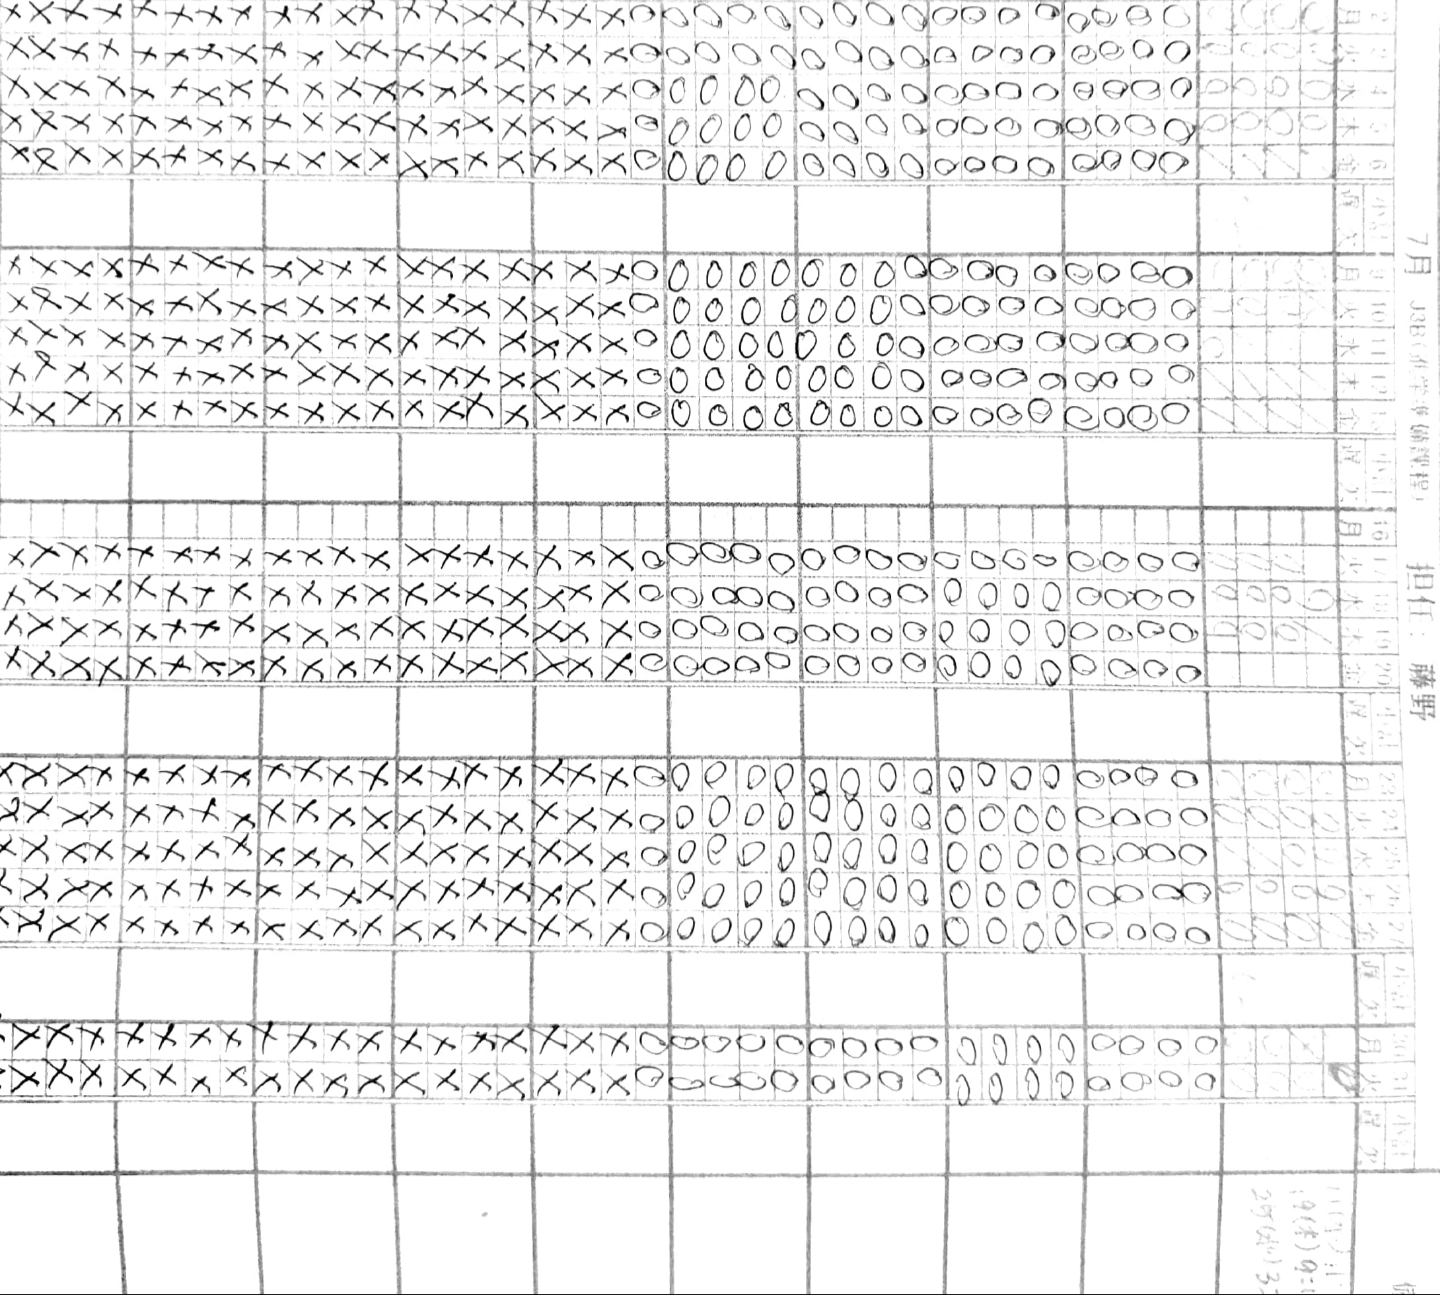o: (990, 290, 1030, 329), (992, 325, 1032, 364), (992, 70, 1027, 112), (862, 325, 900, 364), (1094, 139, 1127, 181), (862, 400, 905, 434), (1064, 69, 1096, 112), (657, 365, 702, 396), (861, 364, 900, 400), (1027, 70, 1062, 110), (1096, 71, 1127, 115), (1060, 145, 1097, 181), (896, 257, 934, 294), (630, 254, 665, 291), (992, 252, 1027, 290), (1029, 110, 1062, 147), (695, 394, 732, 427), (960, 252, 994, 290), (729, 539, 766, 572), (792, 539, 830, 572), (860, 542, 897, 576), (965, 544, 1002, 577), (1000, 544, 1037, 577), (1064, 544, 1101, 577), (1099, 544, 1136, 577), (799, 579, 836, 612), (997, 579, 1035, 612), (1130, 579, 1167, 612), (1097, 572, 1135, 606), (1034, 612, 1071, 646), (994, 614, 1031, 647), (962, 612, 1000, 646), (895, 614, 932, 647), (860, 612, 897, 646), (730, 612, 767, 646), (760, 647, 797, 681), (964, 647, 1001, 681), (1035, 654, 1072, 687), (1124, 359, 1161, 392), (1125, 399, 1162, 432), (1034, 759, 1071, 792), (664, 797, 701, 831), (940, 799, 977, 832), (1109, 797, 1146, 831), (1179, 797, 1216, 831), (1039, 837, 1076, 871), (937, 839, 975, 872), (867, 832, 905, 866), (842, 832, 880, 866), (802, 829, 840, 862), (985, 877, 1022, 911), (1045, 877, 1082, 911), (1112, 912, 1150, 946), (1084, 914, 1121, 947), (942, 912, 980, 946), (909, 914, 946, 947), (764, 914, 801, 947), (740, 914, 777, 947), (632, 1029, 670, 1062), (807, 1029, 845, 1062), (979, 1032, 1016, 1066), (1055, 1027, 1092, 1061), (1094, 1029, 1131, 1062), (1129, 1032, 1166, 1066), (1165, 1034, 1202, 1067), (1074, 1067, 1111, 1101), (875, 1067, 912, 1101), (930, 289, 961, 329), (930, 325, 961, 365), (932, 360, 964, 400), (965, 397, 996, 437), (962, 322, 994, 362), (1064, 112, 1099, 147), (699, 254, 734, 289), (631, 574, 667, 607), (891, 544, 927, 577), (1136, 544, 1172, 577), (866, 577, 902, 611), (1036, 579, 1072, 612), (702, 649, 739, 682), (827, 649, 864, 682), (931, 649, 967, 682), (1137, 652, 1174, 686), (1171, 654, 1207, 687), (1127, 252, 1164, 286), (1162, 357, 1199, 391), (1156, 394, 1192, 427), (1101, 759, 1137, 792), (1072, 764, 1109, 797), (1007, 757, 1044, 791), (971, 757, 1007, 791), (936, 757, 972, 791), (631, 757, 667, 791), (1071, 834, 1107, 867), (741, 839, 777, 872), (702, 832, 739, 866), (666, 834, 702, 867), (1052, 914, 1089, 947), (1012, 914, 1049, 947), (871, 912, 907, 946), (712, 914, 749, 947), (667, 1027, 704, 1061), (871, 1029, 907, 1062), (951, 1032, 987, 1066), (1051, 1069, 1087, 1102), (976, 1067, 1012, 1101), (941, 1067, 977, 1101), (762, 536, 800, 569), (730, 580, 767, 612), (700, 577, 737, 610), (660, 576, 697, 609), (929, 542, 966, 575), (900, 580, 937, 612), (935, 577, 972, 610), (1162, 580, 1200, 612), (1164, 617, 1201, 650), (1127, 615, 1165, 647), (929, 612, 966, 645), (769, 617, 806, 650), (667, 610, 705, 642), (632, 611, 670, 644), (799, 650, 836, 682), (899, 647, 936, 680), (997, 645, 1035, 677), (1122, 327, 1160, 360), (1157, 325, 1195, 357), (1130, 761, 1167, 794), (830, 762, 867, 795), (762, 757, 800, 790), (735, 760, 772, 792), (699, 756, 736, 789), (665, 760, 702, 792), (634, 800, 671, 832), (700, 797, 737, 830), (732, 797, 770, 830), (767, 797, 805, 830), (832, 797, 870, 830), (874, 795, 911, 827), (972, 800, 1010, 832), (1009, 800, 1046, 832), (1139, 797, 1176, 830), (1177, 837, 1215, 870), (1117, 836, 1155, 869), (1009, 836, 1046, 869), (970, 840, 1007, 872), (669, 871, 706, 904), (704, 875, 741, 907), (840, 875, 877, 907), (1080, 877, 1117, 910), (1105, 876, 1142, 909), (1180, 915, 1217, 947), (842, 911, 880, 944), (637, 915, 675, 947), (702, 1027, 740, 1060), (837, 1030, 875, 1062), (1022, 1030, 1060, 1062), (1199, 1032, 1236, 1065), (1012, 1067, 1050, 1100), (910, 1066, 947, 1099), (805, 1067, 842, 1100), (710, 1066, 747, 1099), (634, 1062, 671, 1095), (932, 397, 962, 437), (962, 356, 992, 396), (962, 289, 992, 329), (932, 72, 966, 107), (795, 254, 827, 290), (827, 540, 864, 572), (1162, 545, 1199, 577), (761, 577, 797, 610), (826, 577, 862, 610), (971, 577, 1007, 610), (1067, 577, 1104, 610), (1096, 616, 1132, 649), (1061, 615, 1097, 647), (826, 612, 862, 645), (791, 611, 827, 644), (697, 610, 734, 642), (636, 647, 672, 680), (671, 650, 707, 682), (731, 647, 767, 680), (856, 647, 892, 680), (1071, 647, 1107, 680), (1102, 647, 1139, 680), (1157, 252, 1194, 285), (1162, 292, 1199, 325), (1127, 291, 1164, 324), (1171, 762, 1207, 795), (907, 760, 944, 792), (872, 757, 909, 790), (806, 765, 842, 797), (801, 797, 837, 830), (901, 797, 937, 830), (1042, 800, 1079, 832), (1077, 797, 1114, 830), (1141, 835, 1177, 867), (907, 837, 944, 870), (771, 841, 807, 874), (737, 876, 774, 909), (771, 876, 807, 909), (802, 866, 839, 899), (872, 875, 909, 907), (902, 875, 939, 907), (941, 876, 977, 909), (1012, 877, 1049, 910), (1146, 876, 1182, 909), (1177, 876, 1214, 909), (1146, 916, 1182, 949), (972, 915, 1009, 947), (812, 915, 849, 947), (672, 911, 709, 944), (741, 1027, 777, 1060), (771, 1025, 807, 1057), (912, 1025, 949, 1057), (1191, 1071, 1227, 1104), (1142, 1067, 1179, 1100), (1107, 1072, 1144, 1105), (837, 1066, 874, 1099), (771, 1065, 807, 1097), (732, 1061, 769, 1094), (672, 1065, 709, 1097), (632, 1060, 669, 1092), (964, 140, 991, 182), (830, 254, 860, 292), (901, 399, 931, 437), (1057, 2, 1090, 37), (697, 72, 730, 107), (797, 112, 830, 147), (727, 322, 760, 357), (1029, 542, 1061, 577), (1124, 32, 1156, 67), (1096, 107, 1127, 144), (797, 322, 827, 360), (1094, 37, 1126, 71), (1065, 39, 1097, 72), (1030, 37, 1062, 71), (994, 36, 1026, 70), (964, 37, 996, 71), (895, 39, 927, 72), (862, 36, 895, 70), (830, 37, 862, 71), (764, 39, 796, 72), (630, 35, 662, 69), (627, 105, 660, 139), (665, 112, 697, 146), (662, 75, 695, 109), (727, 147, 760, 181), (727, 109, 760, 142), (729, 70, 761, 104), (759, 109, 791, 142), (762, 147, 795, 181), (795, 75, 827, 109), (825, 76, 857, 110), (894, 150, 926, 184), (1027, 146, 1061, 179), (731, 395, 764, 429), (900, 294, 934, 326), (1125, 144, 1157, 177), (931, 37, 962, 72), (757, 72, 789, 107), (631, 292, 666, 324), (767, 291, 797, 327), (629, 1, 661, 34), (730, 1, 762, 34), (832, 1, 865, 34), (894, 1, 926, 34), (927, 1, 960, 34), (992, 1, 1025, 34), (1029, 1, 1061, 34), (832, 402, 865, 435), (1159, 106, 1191, 139), (1127, 106, 1160, 139), (661, 2, 692, 36), (697, 1, 729, 35), (762, 2, 794, 36), (797, 39, 829, 72), (731, 37, 762, 71), (661, 36, 692, 70), (696, 36, 727, 70), (626, 72, 657, 106), (627, 144, 659, 177), (662, 146, 694, 180), (697, 109, 729, 142), (692, 147, 724, 181), (797, 146, 829, 180), (826, 111, 857, 145), (827, 146, 859, 180), (862, 147, 894, 181), (862, 109, 894, 142), (862, 71, 894, 105), (896, 72, 927, 106), (896, 111, 927, 145), (729, 292, 762, 324), (1162, 39, 1194, 72), (992, 112, 1027, 142), (659, 327, 694, 357), (731, 359, 757, 399), (801, 396, 831, 431), (799, 360, 827, 396), (767, 254, 795, 291), (791, 1, 822, 34), (862, 1, 894, 34), (956, 1, 987, 34), (1086, 1, 1117, 34), (865, 292, 896, 325), (1124, 1, 1156, 32), (1162, 65, 1194, 97), (1157, 146, 1189, 179), (1126, 70, 1157, 102), (632, 359, 662, 392), (700, 294, 730, 327), (964, 105, 992, 140), (666, 256, 695, 291), (831, 321, 857, 359), (899, 357, 922, 399), (1162, 1, 1194, 32), (666, 397, 696, 430), (797, 290, 827, 322), (995, 364, 1027, 394), (1030, 256, 1062, 286), (1035, 329, 1067, 359), (1035, 362, 1067, 392), (1025, 396, 1057, 426), (1067, 327, 1100, 357), (1097, 326, 1130, 356), (1094, 362, 1126, 392), (1069, 362, 1101, 392), (1065, 401, 1097, 431), (832, 357, 857, 396), (632, 400, 667, 427), (662, 292, 694, 322), (770, 362, 800, 394), (866, 261, 896, 292), (996, 402, 1027, 432), (1032, 291, 1064, 321), (1062, 257, 1094, 287), (1092, 257, 1124, 287), (1096, 287, 1127, 317), (1071, 289, 1102, 319), (1096, 400, 1127, 430), (932, 146, 961, 179), (630, 326, 662, 355), (701, 327, 730, 360), (771, 400, 799, 432), (832, 292, 860, 325), (997, 147, 1024, 181), (637, 542, 665, 572), (667, 540, 695, 570), (702, 362, 729, 394), (771, 327, 796, 360), (701, 539, 727, 569), (934, 112, 960, 140), (734, 256, 757, 286), (967, 77, 992, 105), (902, 327, 922, 359), (937, 257, 959, 280)
x: (187, 794, 227, 832), (56, 790, 92, 832), (189, 832, 227, 871), (567, 794, 604, 835), (366, 607, 401, 649), (397, 610, 432, 651), (431, 610, 466, 651), (467, 609, 502, 650), (496, 609, 531, 650), (567, 610, 602, 651), (602, 610, 637, 651), (604, 642, 639, 684), (562, 644, 597, 685), (532, 642, 567, 684), (495, 642, 530, 684), (432, 646, 467, 687), (395, 647, 430, 689), (366, 646, 401, 687), (334, 642, 369, 684), (297, 644, 332, 685), (264, 644, 299, 685), (162, 642, 197, 684), (125, 646, 160, 687), (91, 642, 126, 684), (24, 642, 59, 684), (532, 794, 567, 835), (92, 790, 127, 831), (292, 757, 330, 795), (530, 759, 567, 796), (97, 354, 134, 392), (94, 537, 132, 574), (61, 247, 96, 287), (94, 247, 129, 287), (127, 246, 162, 286), (161, 246, 196, 286), (192, 245, 227, 285), (225, 247, 260, 287), (262, 247, 297, 287), (294, 247, 329, 287), (327, 246, 362, 286), (362, 247, 397, 287), (396, 247, 431, 287), (430, 247, 465, 287), (461, 249, 496, 289), (496, 249, 531, 289), (526, 249, 561, 289), (562, 247, 597, 287), (597, 249, 632, 289), (530, 287, 565, 327), (332, 357, 367, 397), (297, 357, 332, 397), (31, 352, 66, 392), (531, 607, 566, 647), (462, 647, 497, 687), (229, 647, 264, 687), (194, 642, 229, 682), (57, 642, 92, 682), (395, 759, 430, 799), (462, 795, 497, 835), (292, 794, 327, 834), (1, 642, 35, 684), (430, 757, 464, 799), (295, 1, 332, 37), (567, 395, 604, 432), (121, 794, 157, 831), (122, 832, 159, 870), (392, 834, 429, 871), (496, 832, 532, 870), (529, 832, 565, 870), (566, 834, 602, 871), (564, 870, 600, 907), (531, 870, 567, 907), (496, 870, 532, 907), (325, 869, 361, 906), (290, 870, 326, 907), (219, 870, 255, 907), (150, 869, 186, 906), (122, 867, 159, 905), (87, 867, 124, 905), (54, 869, 90, 906), (12, 907, 49, 945), (126, 905, 162, 942), (185, 910, 221, 947), (355, 907, 391, 945), (394, 907, 430, 945), (424, 909, 460, 946), (490, 907, 526, 945), (524, 909, 560, 946), (562, 909, 599, 946), (599, 1025, 635, 1062), (566, 1025, 602, 1062), (531, 1022, 567, 1060), (425, 1022, 461, 1060), (392, 1024, 429, 1061), (286, 1019, 322, 1056), (252, 1017, 289, 1055), (217, 1019, 254, 1056), (147, 1019, 184, 1056), (115, 1019, 151, 1056), (44, 1019, 80, 1056), (46, 1059, 82, 1096), (182, 1059, 219, 1096), (496, 1062, 532, 1100), (527, 1060, 564, 1097), (597, 1059, 634, 1096), (297, 392, 332, 431), (532, 394, 567, 432), (327, 795, 362, 834), (367, 357, 401, 397), (499, 794, 532, 834), (429, 795, 462, 835), (362, 795, 396, 835), (604, 792, 635, 835), (399, 540, 435, 576), (331, 576, 367, 612), (427, 837, 464, 874), (460, 836, 496, 872), (599, 867, 635, 904), (466, 872, 502, 909), (426, 872, 462, 909), (392, 871, 429, 907), (360, 872, 396, 909), (49, 907, 85, 944), (260, 907, 296, 944), (292, 907, 329, 944), (324, 906, 360, 942), (597, 911, 634, 947), (317, 1022, 354, 1059), (185, 1021, 221, 1057), (12, 1021, 49, 1057), (12, 1061, 49, 1097), (79, 1057, 115, 1094), (151, 1056, 187, 1092), (250, 1056, 286, 1092), (285, 1057, 321, 1094), (324, 1057, 360, 1094), (396, 1062, 432, 1099), (429, 1061, 465, 1097), (460, 1062, 496, 1099), (332, 392, 367, 430), (534, 540, 569, 577), (467, 540, 502, 577), (297, 539, 335, 574), (197, 539, 232, 576), (55, 834, 92, 869), (257, 870, 292, 907), (182, 870, 217, 907), (17, 867, 52, 905), (152, 909, 187, 946), (222, 910, 257, 947), (457, 907, 492, 945), (462, 1024, 497, 1061), (77, 1017, 112, 1055), (222, 1057, 257, 1095), (562, 1059, 597, 1096), (594, 292, 632, 326), (25, 792, 59, 831), (495, 36, 531, 71), (362, 287, 399, 322), (96, 286, 132, 321), (499, 360, 534, 396), (197, 357, 232, 394), (31, 390, 67, 425), (57, 756, 92, 792), (257, 760, 292, 796), (597, 836, 632, 872), (87, 907, 122, 944), (492, 1022, 527, 1059), (357, 1022, 392, 1059), (117, 1057, 152, 1094), (357, 1061, 392, 1097), (199, 392, 232, 430), (232, 392, 266, 430), (432, 392, 466, 430), (466, 392, 500, 430), (264, 537, 297, 575), (602, 575, 636, 612), (297, 575, 331, 612), (464, 757, 497, 795), (396, 796, 430, 834), (227, 1, 266, 34), (134, 354, 166, 392), (265, 392, 297, 431), (260, 794, 292, 832), (227, 794, 260, 832), (21, 830, 54, 869), (260, 832, 292, 871), (166, 354, 197, 394), (232, 357, 267, 392), (22, 757, 57, 792), (360, 759, 395, 794), (327, 836, 362, 871), (534, 360, 567, 396), (131, 392, 165, 429), (165, 392, 199, 429), (500, 394, 534, 430), (67, 352, 100, 390), (65, 390, 97, 427), (197, 575, 230, 612), (94, 574, 126, 611), (29, 572, 61, 610), (60, 610, 92, 647), (127, 609, 160, 646), (160, 610, 192, 647), (264, 609, 296, 646), (92, 757, 125, 795), (227, 834, 259, 872), (530, 1, 565, 35), (431, 289, 466, 322), (230, 289, 265, 322), (297, 322, 332, 356), (196, 321, 231, 355), (567, 360, 602, 394), (332, 541, 367, 575), (30, 537, 64, 572), (534, 577, 569, 611), (262, 575, 297, 609), (30, 247, 62, 284), (367, 394, 400, 430), (400, 394, 432, 430), (604, 395, 636, 431), (165, 540, 197, 576), (467, 577, 504, 610), (127, 572, 160, 609), (192, 611, 225, 647), (227, 607, 260, 644), (297, 607, 330, 644), (497, 759, 530, 795), (401, 360, 432, 397), (502, 540, 534, 577), (435, 540, 466, 577), (61, 574, 92, 611), (332, 607, 364, 645), (232, 539, 262, 577), (157, 794, 187, 832), (159, 832, 189, 871), (297, 287, 331, 321), (62, 287, 96, 321), (465, 360, 499, 394), (569, 541, 602, 575), (495, 1, 530, 34), (399, 287, 431, 322), (132, 286, 165, 321), (599, 327, 634, 360), (61, 537, 94, 572), (570, 577, 602, 612), (399, 577, 434, 610), (230, 575, 262, 610), (427, 2, 464, 34), (331, 69, 362, 105), (366, 71, 397, 107), (462, 70, 494, 106), (497, 71, 529, 107), (531, 72, 562, 109), (562, 71, 594, 107), (27, 611, 59, 647), (91, 611, 122, 647), (465, 105, 495, 142), (435, 104, 465, 141), (400, 105, 430, 142), (365, 105, 395, 142), (334, 104, 364, 141), (300, 104, 330, 141), (262, 102, 292, 140), (230, 104, 260, 141), (200, 105, 230, 142), (166, 102, 196, 140), (132, 102, 162, 140), (34, 99, 64, 136), (62, 100, 92, 137), (332, 139, 362, 176), (1, 575, 31, 612), (125, 757, 155, 795), (595, 2, 627, 36), (564, 37, 596, 71), (531, 37, 564, 71), (331, 37, 365, 70), (232, 37, 266, 70), (197, 289, 230, 322), (231, 321, 265, 354), (602, 360, 635, 394), (432, 360, 465, 394), (99, 392, 131, 426), (132, 540, 165, 574), (434, 577, 467, 610), (157, 760, 190, 794), (191, 759, 224, 792), (224, 760, 257, 792), (392, 2, 427, 34), (596, 36, 627, 71), (427, 37, 462, 69), (399, 72, 430, 107), (599, 107, 630, 142), (530, 107, 561, 142), (564, 287, 595, 322), (331, 287, 362, 322), (31, 287, 62, 322), (532, 327, 567, 359), (332, 325, 367, 356), (96, 322, 131, 354), (602, 540, 634, 575), (367, 541, 399, 576), (502, 576, 534, 611), (265, 1, 295, 37), (297, 67, 327, 104), (432, 70, 462, 106), (597, 71, 627, 107), (567, 107, 597, 144), (497, 106, 527, 142), (97, 102, 127, 139), (432, 141, 462, 177), (1, 356, 31, 392), (1, 611, 31, 647), (330, 757, 360, 794), (92, 834, 122, 870), (292, 835, 322, 871), (34, 139, 62, 176), (97, 137, 126, 175), (130, 140, 159, 177), (230, 139, 259, 176), (267, 140, 296, 177), (464, 140, 492, 177), (500, 142, 529, 180), (531, 142, 560, 180), (564, 142, 592, 180), (599, 142, 627, 180), (364, 835, 392, 872), (64, 1, 96, 34), (265, 289, 297, 321), (165, 289, 197, 321), (265, 322, 297, 355), (600, 760, 632, 792), (96, 2, 130, 34), (365, 37, 399, 69), (367, 576, 399, 610), (67, 137, 96, 174), (165, 141, 194, 177), (197, 141, 226, 177), (299, 142, 327, 179), (365, 141, 394, 177), (399, 141, 427, 177), (397, 327, 434, 356), (1, 102, 29, 140), (1, 137, 29, 175), (165, 2, 197, 34), (464, 36, 495, 69), (266, 37, 297, 70), (497, 292, 530, 324), (567, 327, 599, 360), (500, 327, 532, 359), (164, 322, 195, 355), (131, 322, 164, 354), (332, 1, 362, 35), (297, 37, 331, 67), (101, 34, 131, 67), (32, 67, 62, 101), (64, 67, 94, 101), (97, 67, 127, 101), (164, 69, 194, 102), (1, 287, 31, 321), (32, 322, 66, 352), (269, 357, 297, 392), (1, 392, 30, 427), (1, 537, 30, 572), (32, 1, 64, 32), (197, 2, 229, 34), (464, 2, 495, 34), (1, 322, 32, 354), (362, 2, 392, 35), (565, 2, 595, 35), (199, 36, 229, 69), (165, 36, 195, 69), (132, 37, 162, 70), (62, 35, 92, 67), (32, 36, 62, 69), (1, 35, 31, 67), (131, 70, 161, 102), (197, 70, 227, 102), (232, 70, 262, 102), (265, 70, 295, 102), (2, 69, 31, 102), (2, 249, 31, 282), (466, 327, 500, 356), (367, 325, 397, 356), (159, 577, 189, 609), (434, 327, 466, 356), (66, 322, 96, 352), (1, 1, 30, 32), (399, 37, 427, 69), (572, 760, 600, 792), (137, 2, 164, 34), (466, 289, 492, 320)
